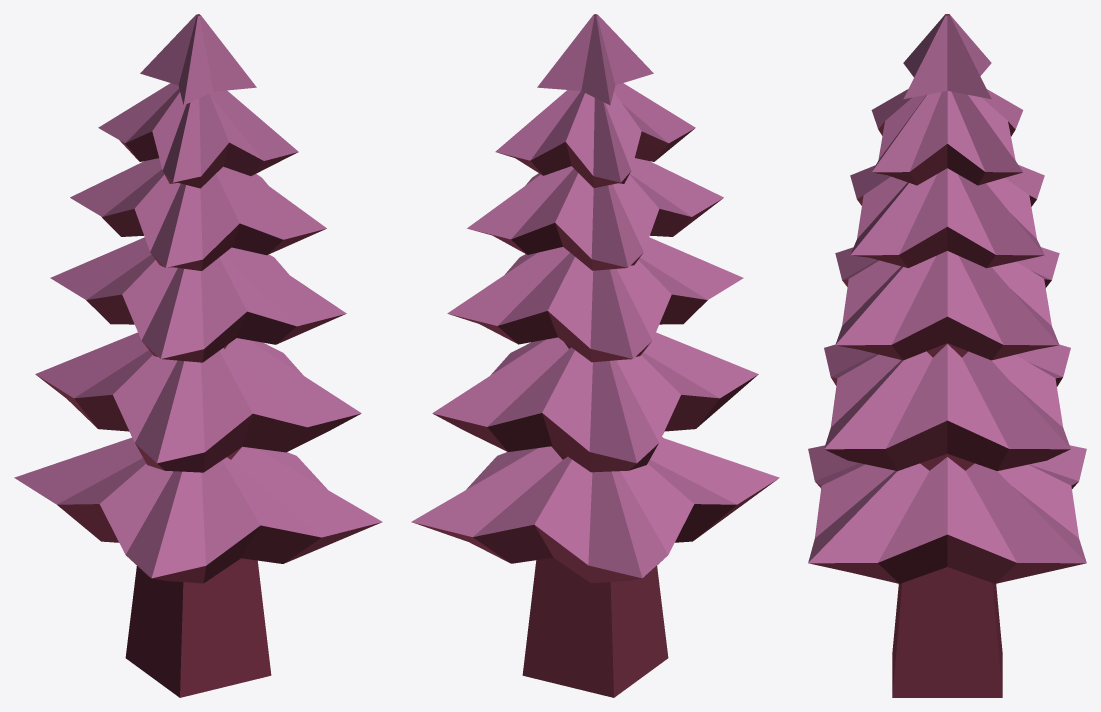
File: Mo_ForestTree05.fbx
3 views of the same model, side by side, from view 1: azimuth 30°, elevation 25°; view 2: azimuth 150°, elevation 25°; view 3: azimuth 270°, elevation 25° (orthographic).
Visible parts, largest first — view 1: Cube; view 2: Cube; view 3: Cube.
Boxes of the visible parts, left/top/right/bottom form: Cube: left=14, top=14, right=382, bottom=697; Cube: left=411, top=14, right=779, bottom=697; Cube: left=808, top=14, right=1086, bottom=697.
Bounding box in the file's own units: 60.62 × 163 × 62.43.
